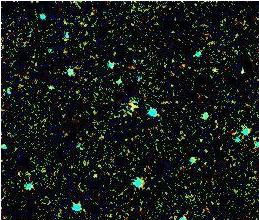star: (118, 89, 148, 119)
